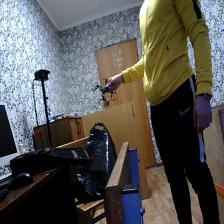drone: (90, 77, 121, 107)
